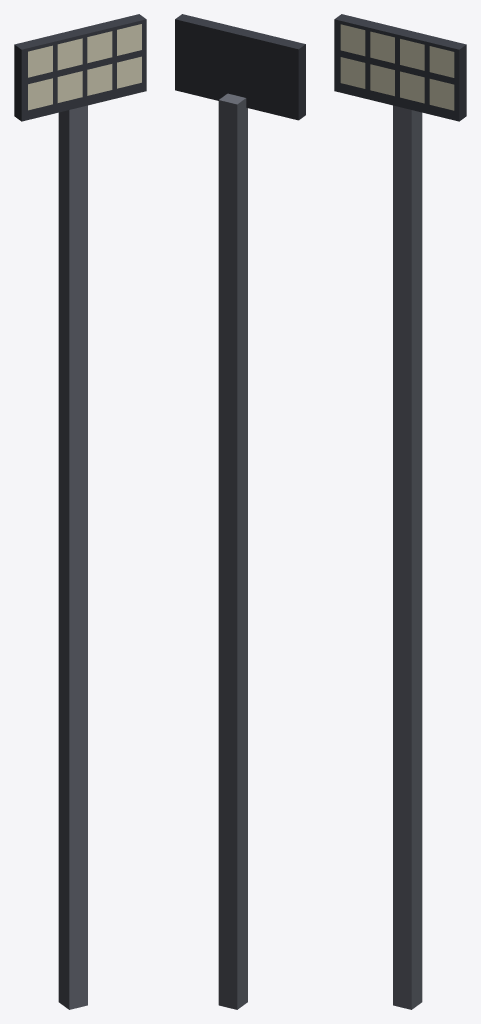
File: flood_tower.glb
The picture shows the model from 3 angles, left to right: view 1: azimuth 30°, elevation 25°; view 2: azimuth 150°, elevation 25°; view 3: azimuth 330°, elevation 25°; orthographic projection.
Visible parts, largest first — view 1: flood_tower; view 2: flood_tower; view 3: flood_tower.
Boxes of the visible parts, left/top/right/bottom form: flood_tower: left=14, top=14, right=146, bottom=1009; flood_tower: left=175, top=14, right=305, bottom=1009; flood_tower: left=334, top=14, right=466, bottom=1009.
Size of the model in its own units: 4 by 29.9 by 0.91.
